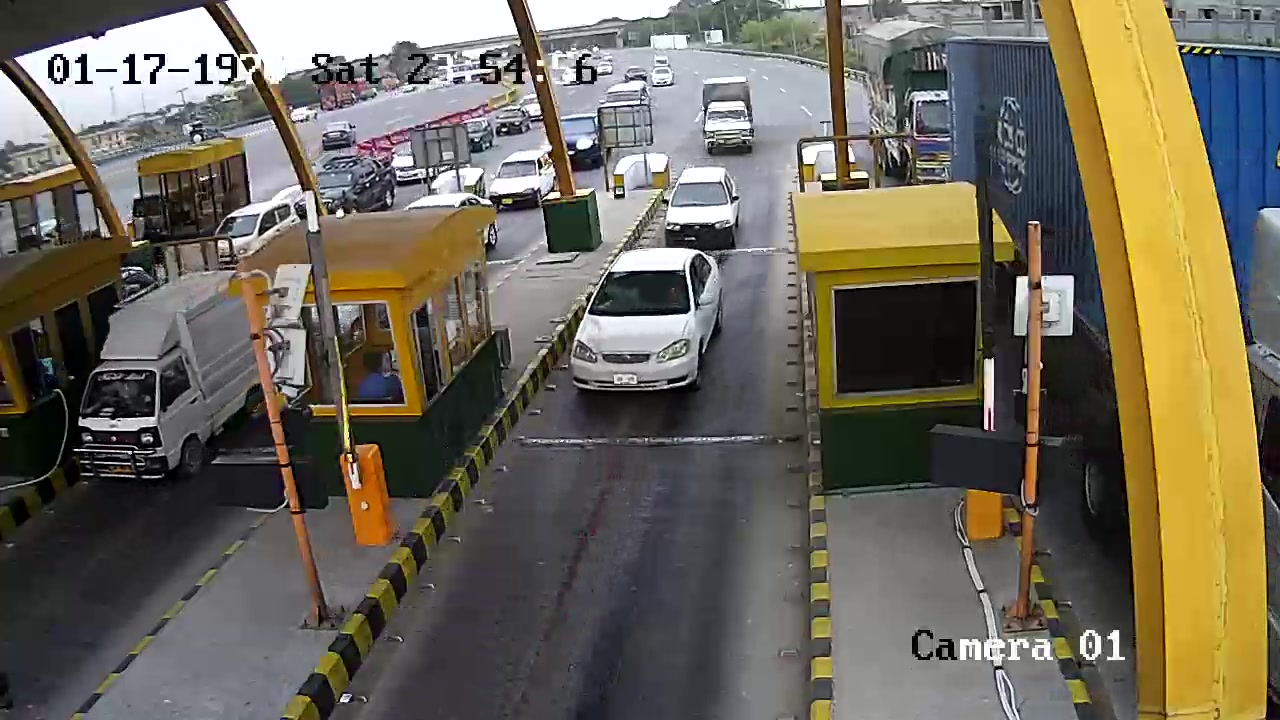F1: (562, 248, 737, 398)
